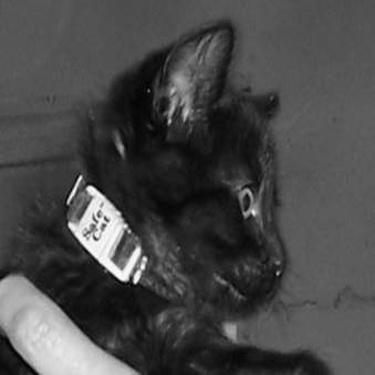cat: (7, 18, 330, 362)
